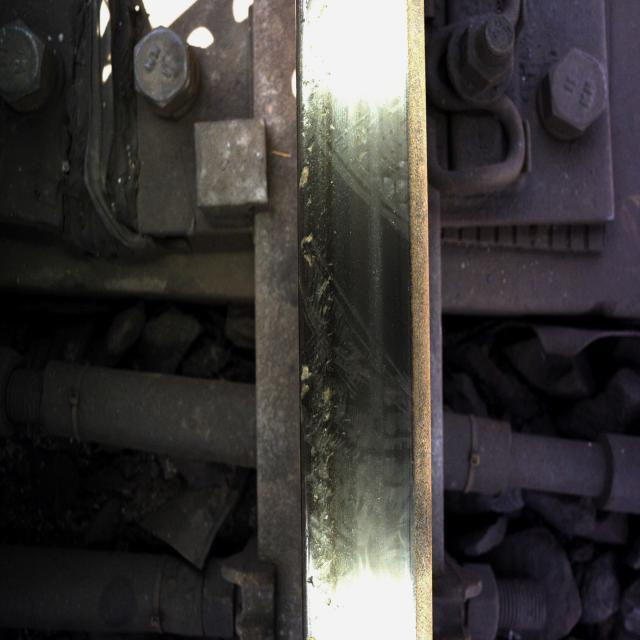crack: (297, 70, 368, 590)
